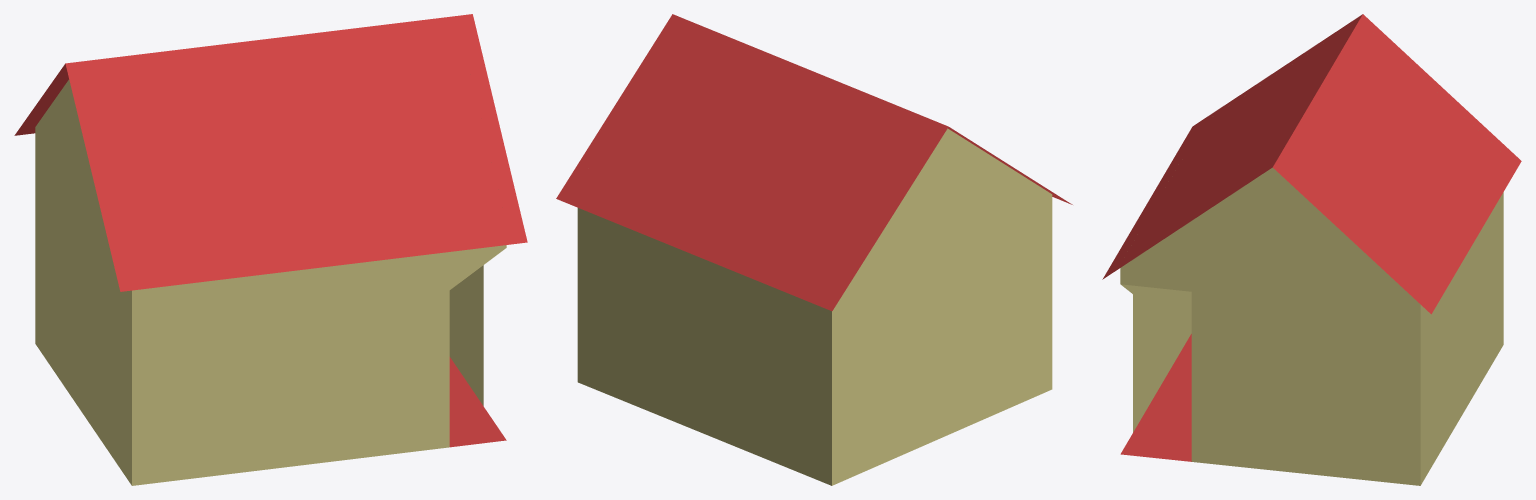
3 views of the same model, side by side, from view 1: azimuth 30°, elevation 25°; view 2: azimuth 150°, elevation 25°; view 3: azimuth 270°, elevation 25° (orthographic). The views are drawn at different scales.
Bounding box in the file's own units: 14.88 × 14.03 × 11.42.
